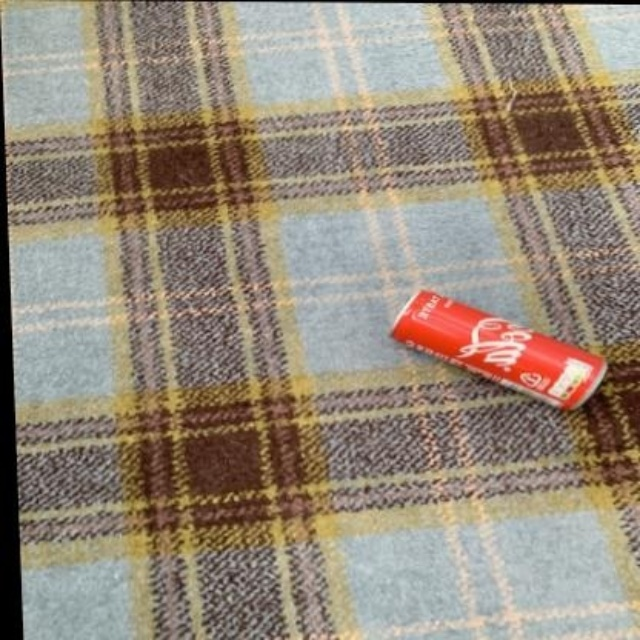trash: (392, 291, 606, 408)
